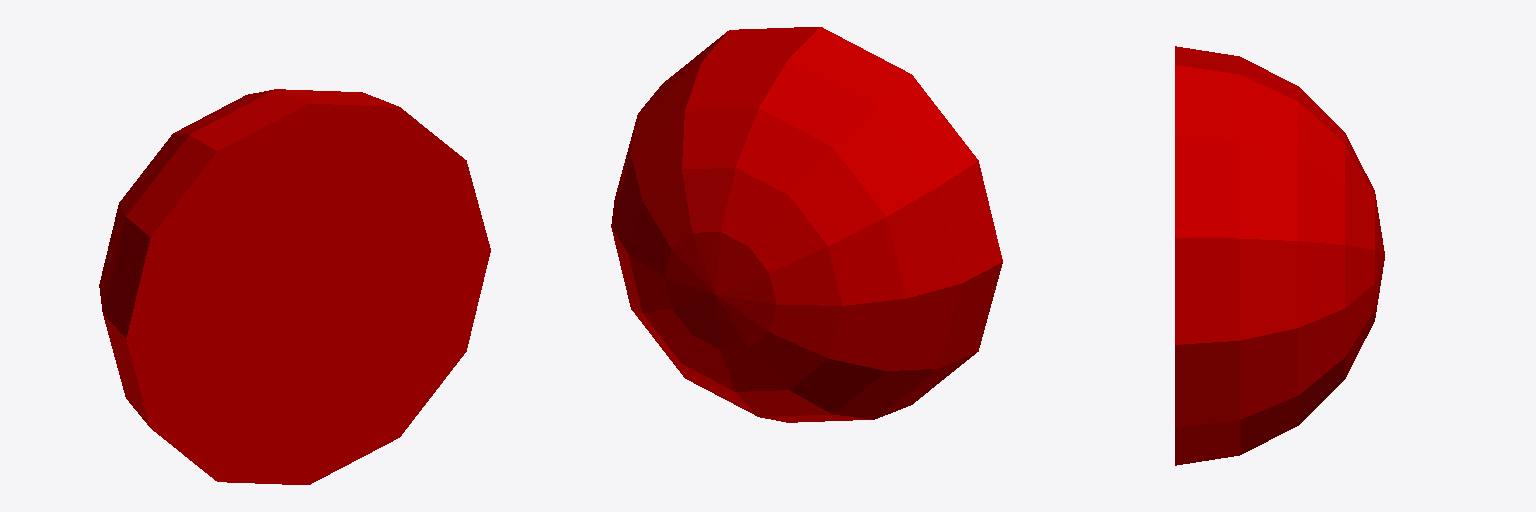
The model's file is red_light.obj.
3 renders of one model, left to right at view 1: azimuth 30°, elevation 25°; view 2: azimuth 150°, elevation 25°; view 3: azimuth 270°, elevation 25°, orthographic.
Visible parts, largest first — view 1: Esfera.003_Esfera.002; view 2: Esfera.003_Esfera.002; view 3: Esfera.003_Esfera.002.
Boxes of the visible parts, x1=… form: Esfera.003_Esfera.002: x1=99, y1=89, x2=490, y2=484; Esfera.003_Esfera.002: x1=611, y1=27, x2=1002, y2=422; Esfera.003_Esfera.002: x1=1175, y1=46, x2=1384, y2=465.
Size of the model in its own units: 0.9253 by 0.9253 by 0.4627.